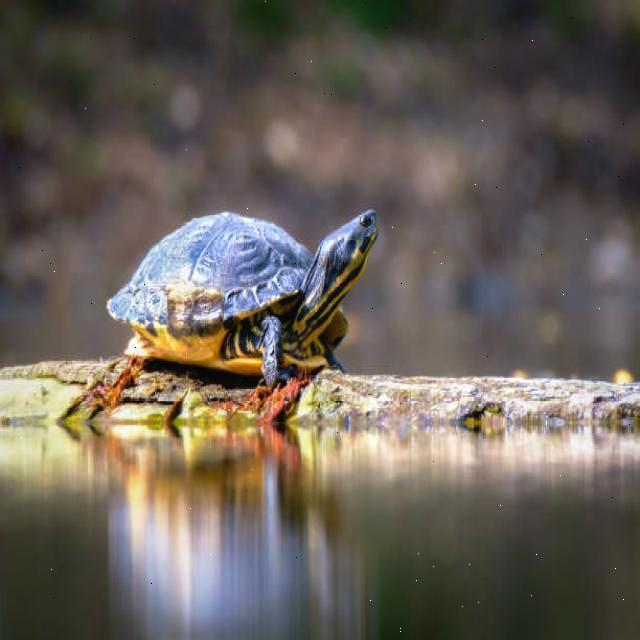tortoise: (86, 197, 400, 429)
